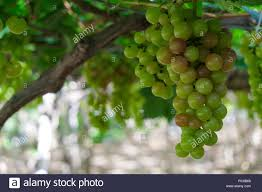grapes: (125, 7, 233, 158)
